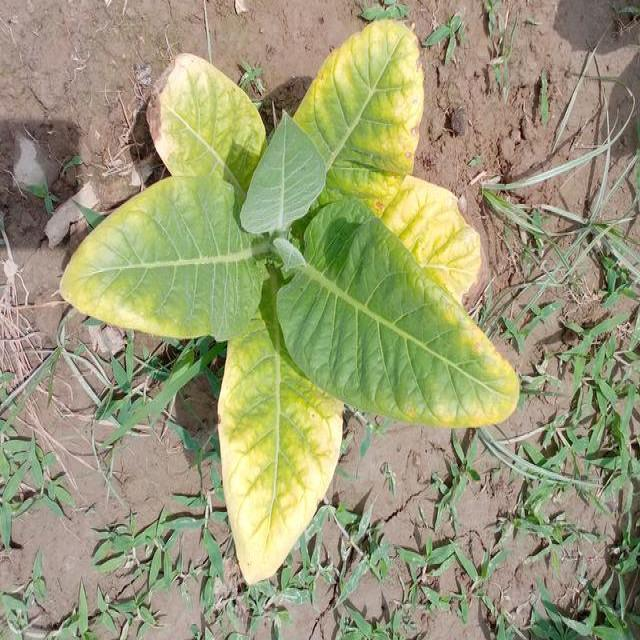crop: (61, 19, 519, 588)
